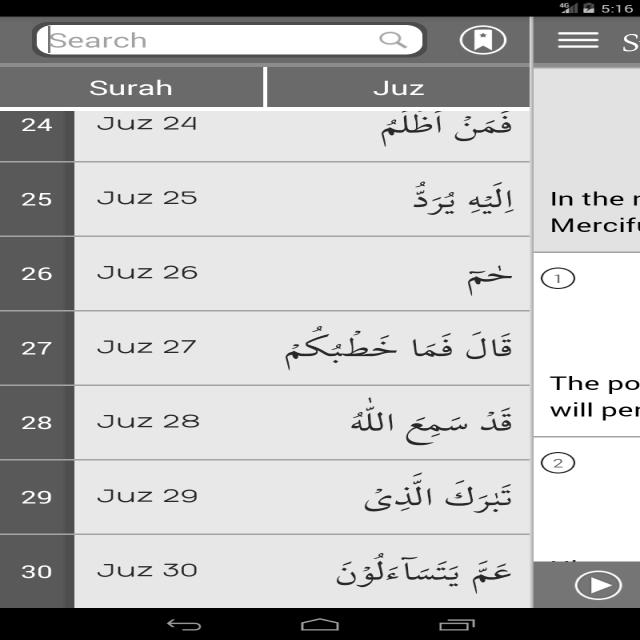EditText: (27, 19, 430, 59)
ImageButton: (452, 22, 510, 55), (572, 568, 626, 602), (554, 25, 608, 51)
TextView: (277, 324, 522, 368), (342, 473, 522, 515), (360, 108, 522, 150), (542, 188, 624, 234), (81, 75, 181, 103), (452, 256, 522, 294), (90, 411, 206, 431), (90, 186, 204, 206), (91, 560, 201, 580), (16, 338, 65, 361), (14, 488, 56, 506)
